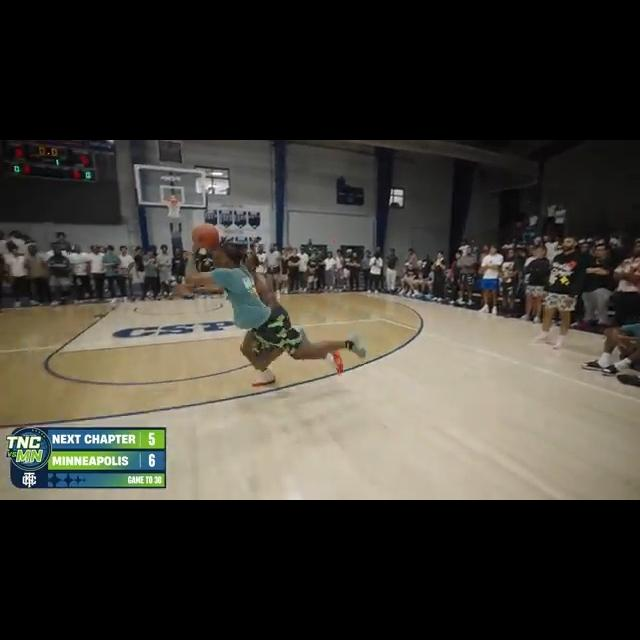basketball: (191, 223, 218, 248)
hoop: (164, 194, 182, 219)
